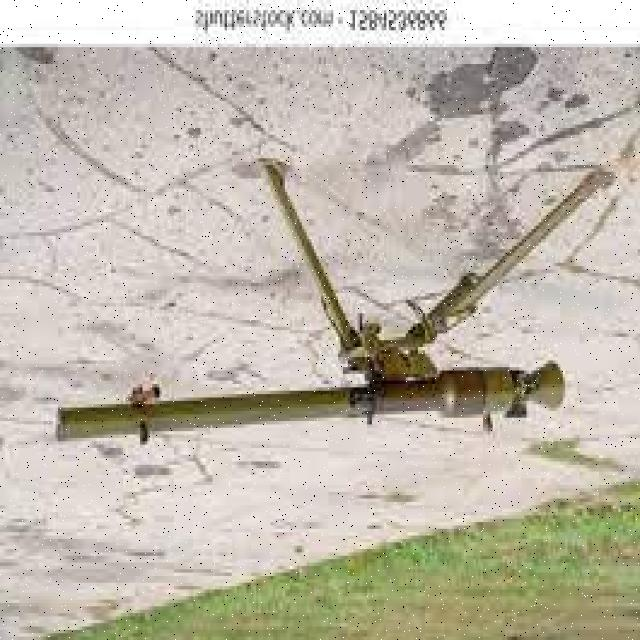bazooka: (48, 145, 617, 460)
